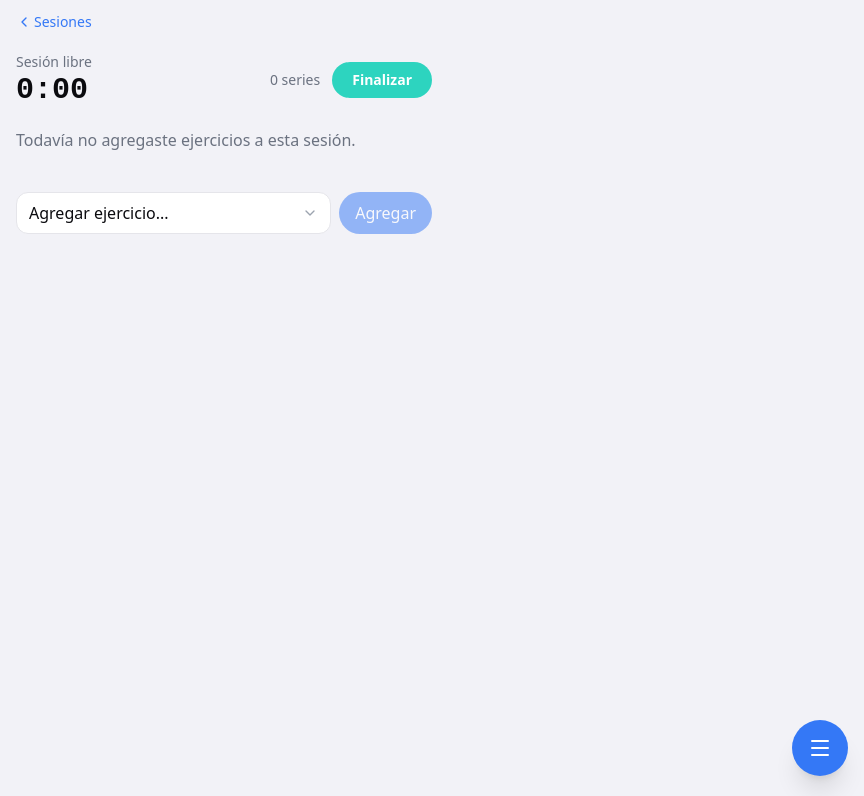
Test: SessionDetailPage › agrega un ejercicio y registra una serie
The image size is (864, 796).
Expected: the text "Todavía no agregaste ejercicios a esta sesión." is shown, [16,129,356,151]
Click the button "Agregar ejercicio..." at (99, 213), box [16,192,331,234]
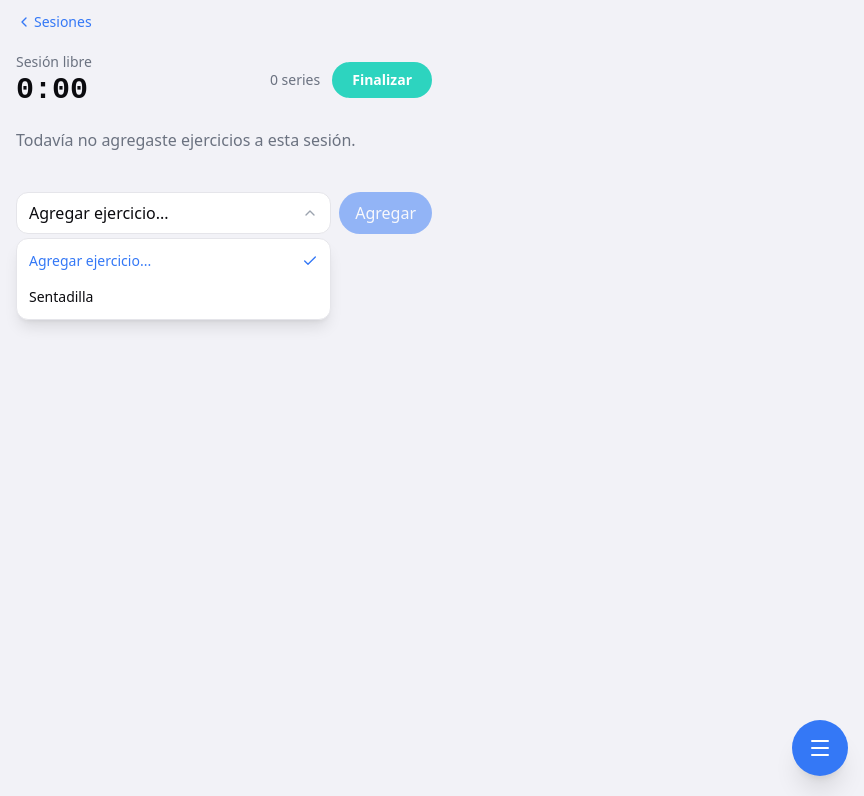
Click the button "Sentadilla" at (61, 296), box [17,279,330,315]
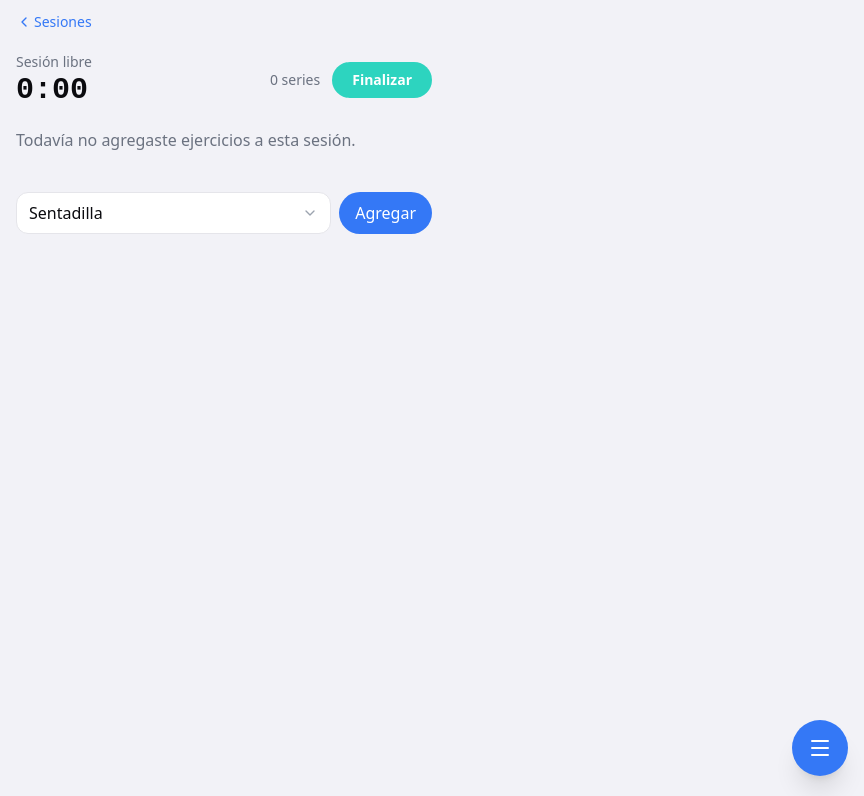
Click the button "Agregar" at (386, 213), box [339,192,432,234]
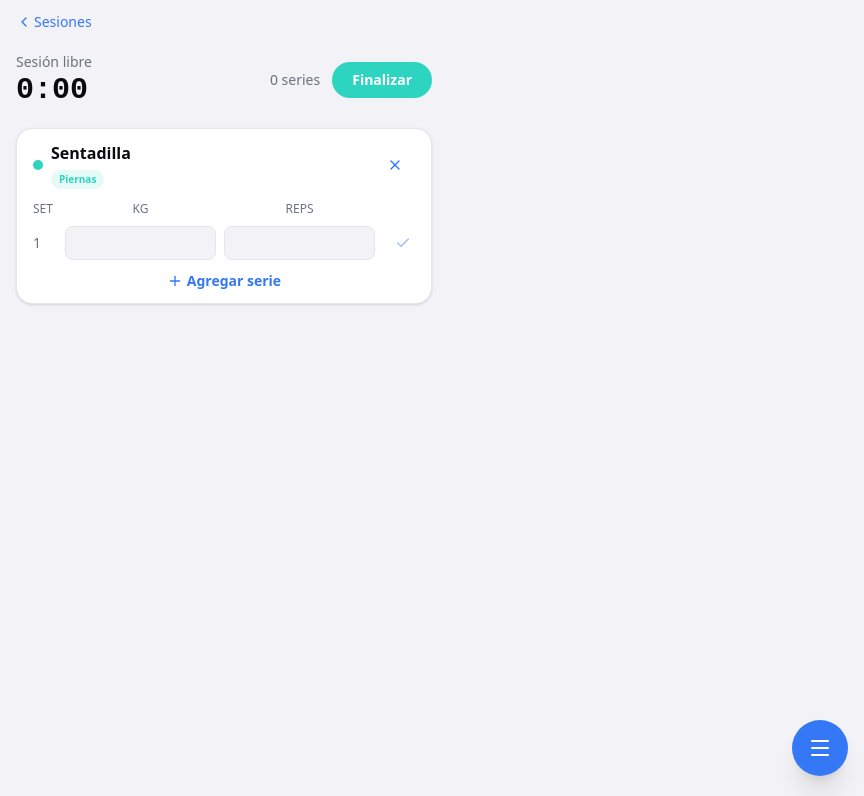
Expected: the text "Sentadilla" is shown, [51,142,131,164]
Type "50" into the number field named "Peso serie 1 de Sentadilla" at (140, 243), box [65,226,216,260]
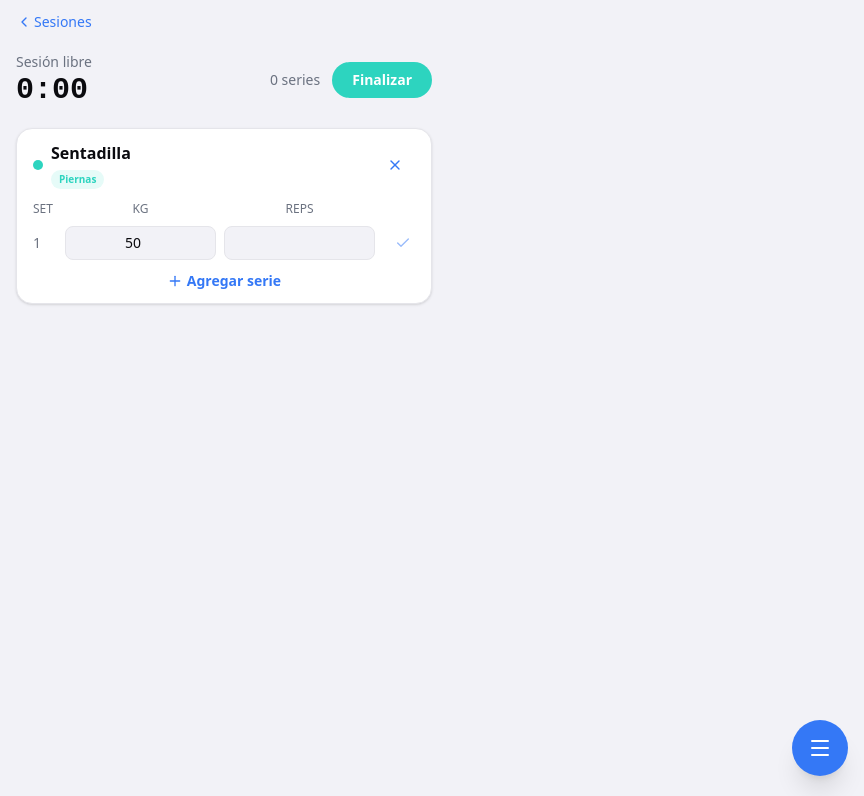
Type "10" into the number field named "Repeticiones serie 1 de Sentadilla" at (300, 243), box [224,226,375,260]
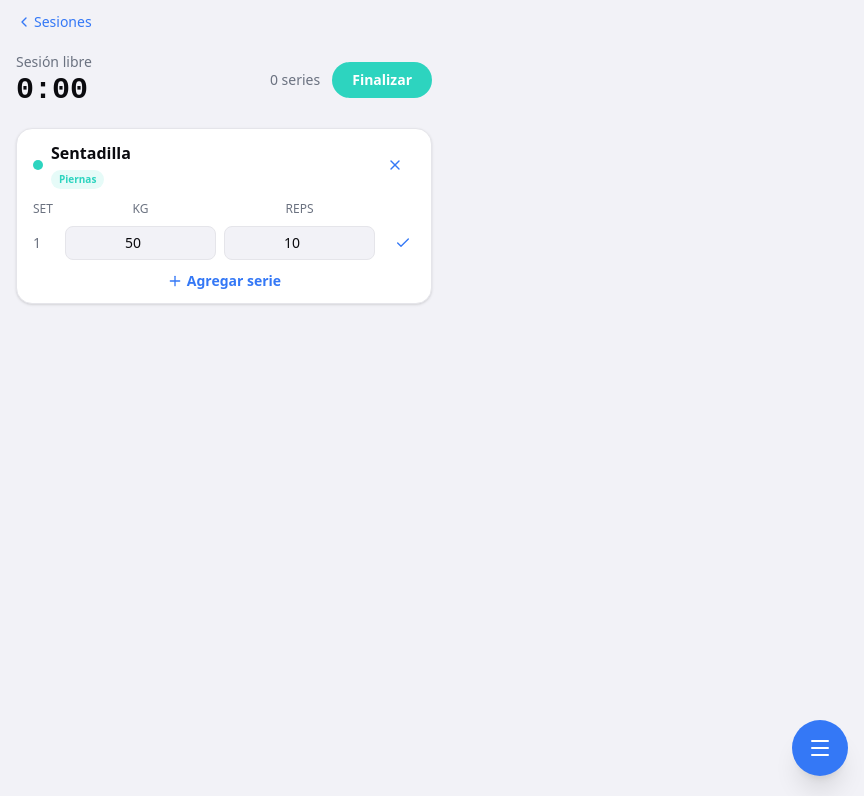
Click the button named "Guardar serie 1 de Sentadilla" at (403, 243), box [383,223,423,263]
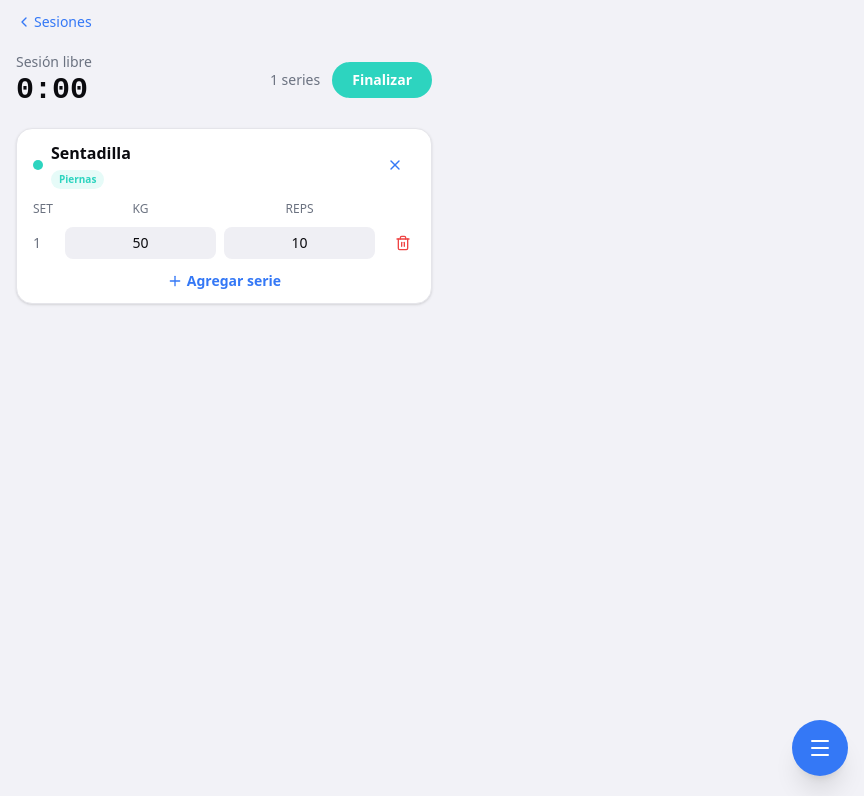
Expected: the text "50" is shown, [132,233,148,252]
Expected: the text "10" is shown, [292,233,308,252]
